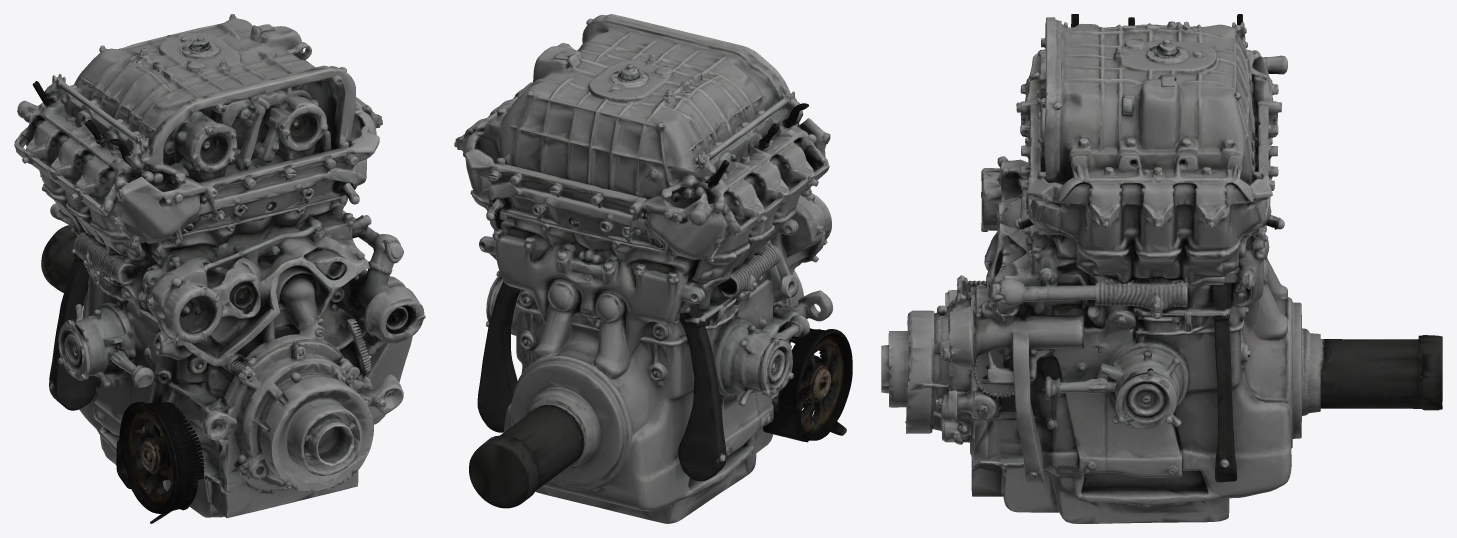
File: engine.glb
The picture shows the model from 3 angles, left to right: view 1: azimuth 30°, elevation 25°; view 2: azimuth 150°, elevation 25°; view 3: azimuth 270°, elevation 25°; orthographic projection. The views are drawn at different scales.
Visible parts, largest first — view 1: tripo_node_c44a3497-87f5-4eb0-8be0-bfefdaf7f105; view 2: tripo_node_c44a3497-87f5-4eb0-8be0-bfefdaf7f105; view 3: tripo_node_c44a3497-87f5-4eb0-8be0-bfefdaf7f105.
Part boxes in pixels (box(x1,y1,x2,y2)): tripo_node_c44a3497-87f5-4eb0-8be0-bfefdaf7f105: box(14, 14, 425, 523); tripo_node_c44a3497-87f5-4eb0-8be0-bfefdaf7f105: box(454, 14, 852, 523); tripo_node_c44a3497-87f5-4eb0-8be0-bfefdaf7f105: box(881, 14, 1442, 523).
Bounding box in the file's own units: 0.6644 × 0.8566 × 0.9809.
Materials: 1 (1 with a texture image).
